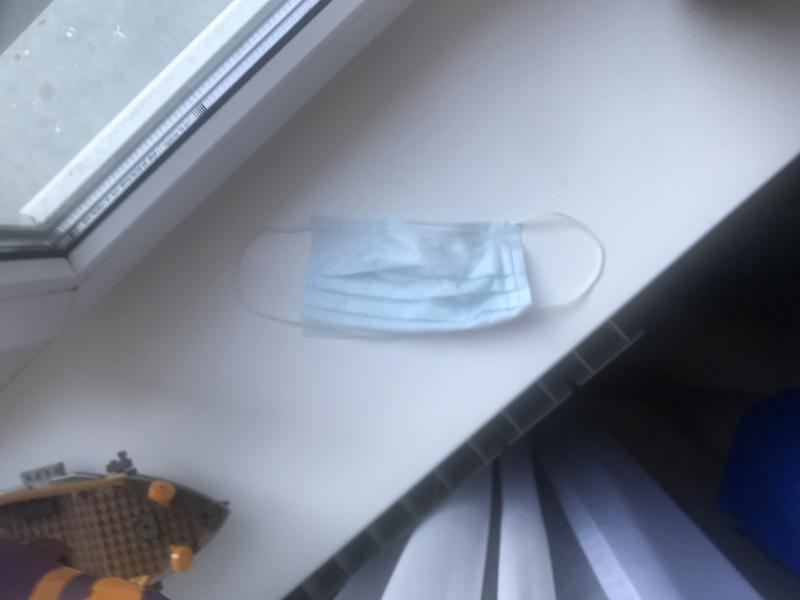medical_mask: (232, 214, 605, 328)
